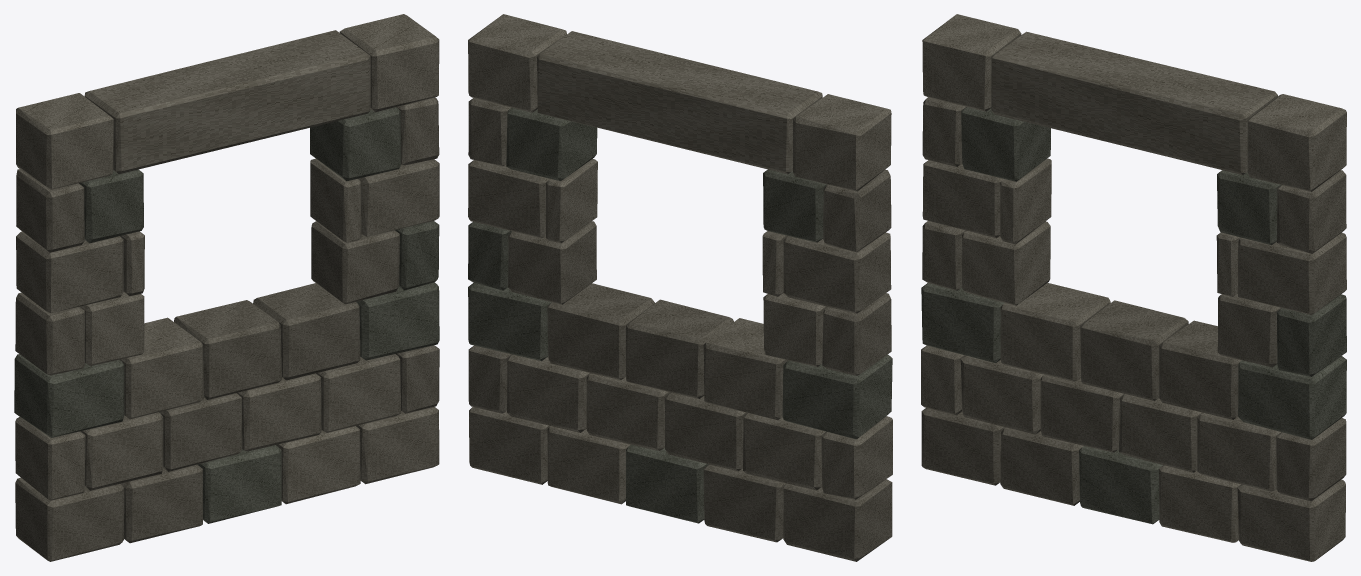
Rendered from env_ruin_walls_07_window_remnant.glb.
3 views of the same model, side by side, from view 1: azimuth 30°, elevation 25°; view 2: azimuth 150°, elevation 25°; view 3: azimuth 330°, elevation 25° (orthographic).
Bounding box in the file's own units: 1.99 × 2.09 × 0.3264.
1 material, 1 textured.
